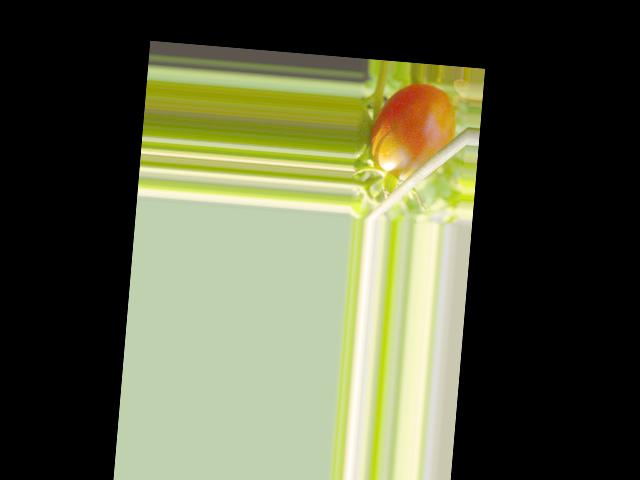tomato: (369, 80, 457, 184)
